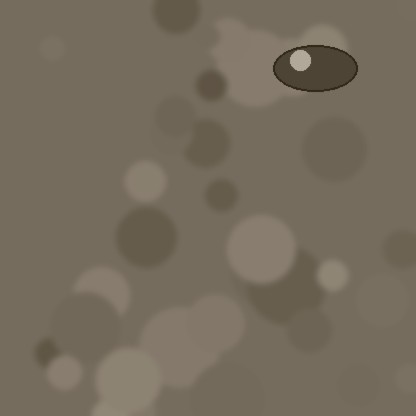gota: (273, 47, 357, 95)
